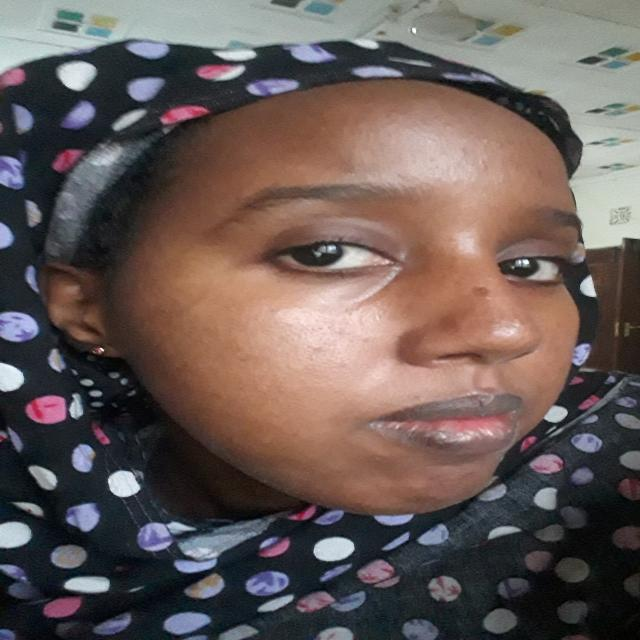Acne: (464, 283, 494, 301), (478, 138, 506, 150), (474, 156, 494, 172), (362, 454, 388, 464), (478, 386, 502, 396), (439, 122, 459, 132), (410, 394, 426, 404)
Englarged-Pores: (277, 317, 368, 376)
